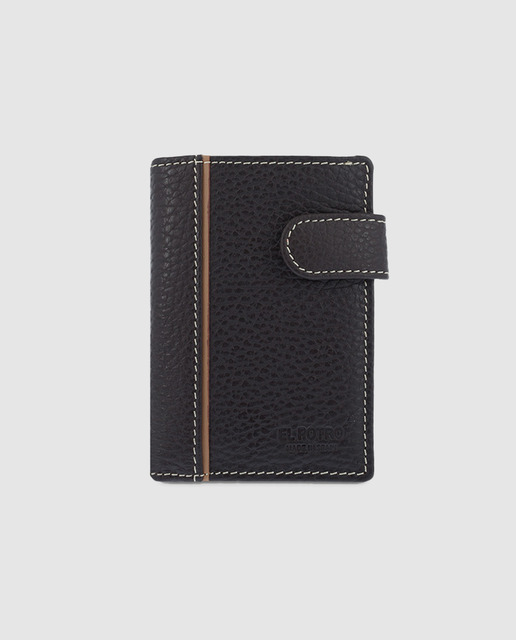monedero: (148, 154, 390, 484)
